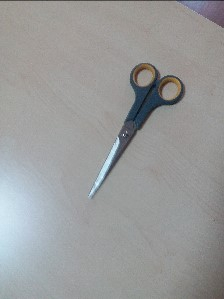scissors: (87, 60, 190, 200)
